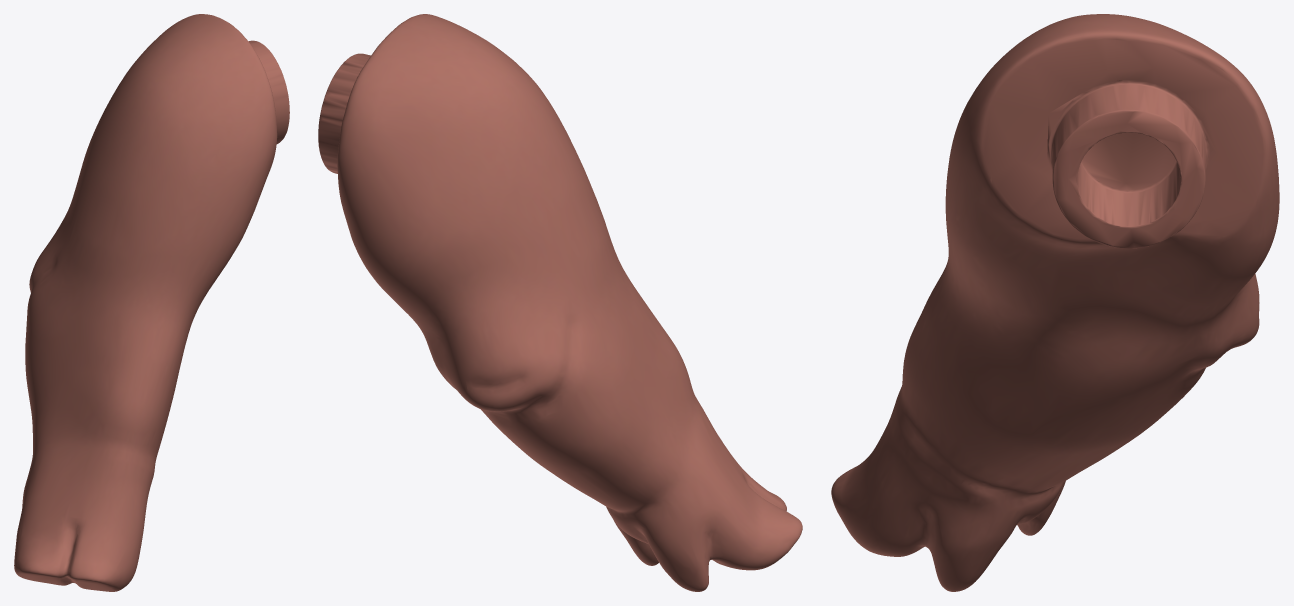
Rendered from Bras_Cochon_rg.glb.
3 views of the same model, side by side, from view 1: azimuth 30°, elevation 25°; view 2: azimuth 150°, elevation 25°; view 3: azimuth 270°, elevation 25° (orthographic). The views are drawn at different scales.
Visible parts, largest first — view 1: Bras_Cochon_rg; view 2: Bras_Cochon_rg; view 3: Bras_Cochon_rg.
Boxes of the visible parts, left/top/right/bottom form: Bras_Cochon_rg: left=14, top=14, right=289, bottom=591; Bras_Cochon_rg: left=318, top=14, right=802, bottom=591; Bras_Cochon_rg: left=831, top=14, right=1279, bottom=591.
Size of the model in its own units: 2.93 by 4.16 by 2.51.
